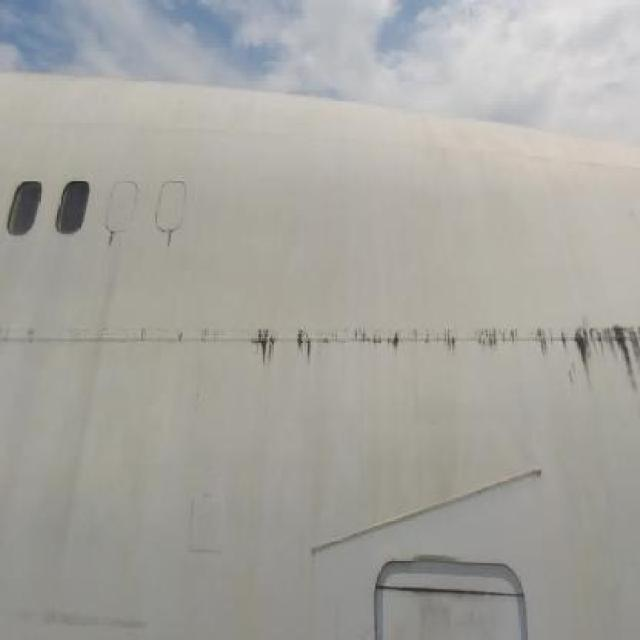Rust: (237, 295, 640, 416), (105, 224, 118, 253), (167, 226, 176, 251)
Scartch: (0, 593, 152, 635), (402, 592, 512, 640)
